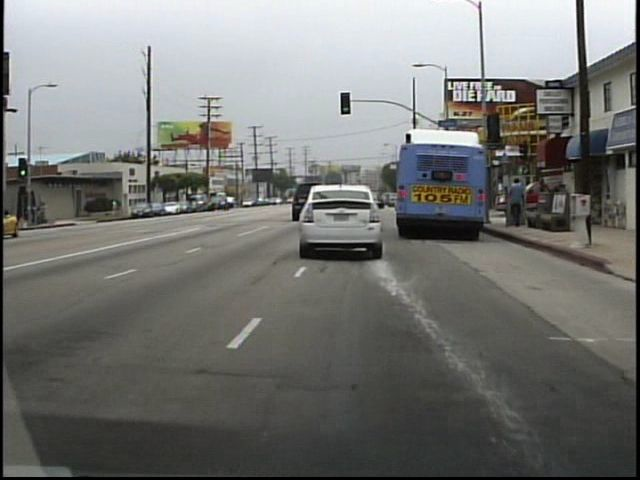person: (503, 175, 526, 232), (110, 196, 121, 218)
